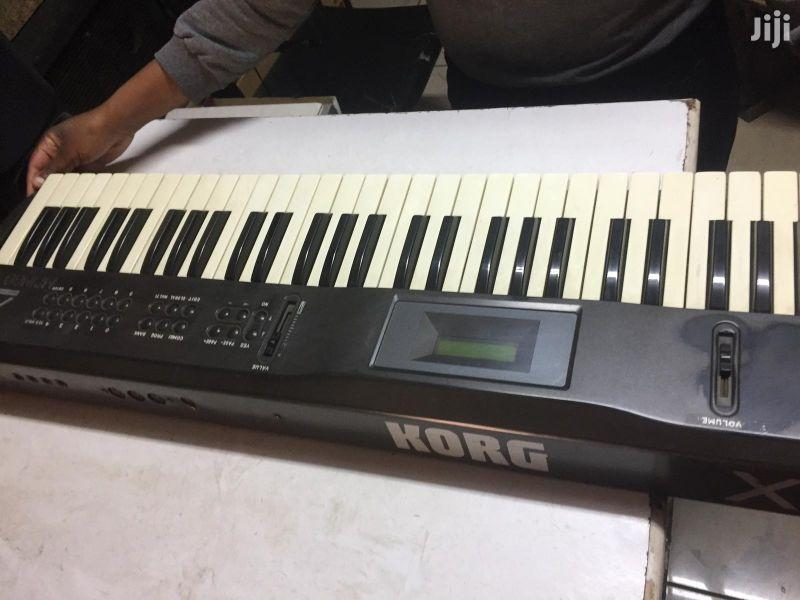synthesizer: (17, 177, 784, 468)
